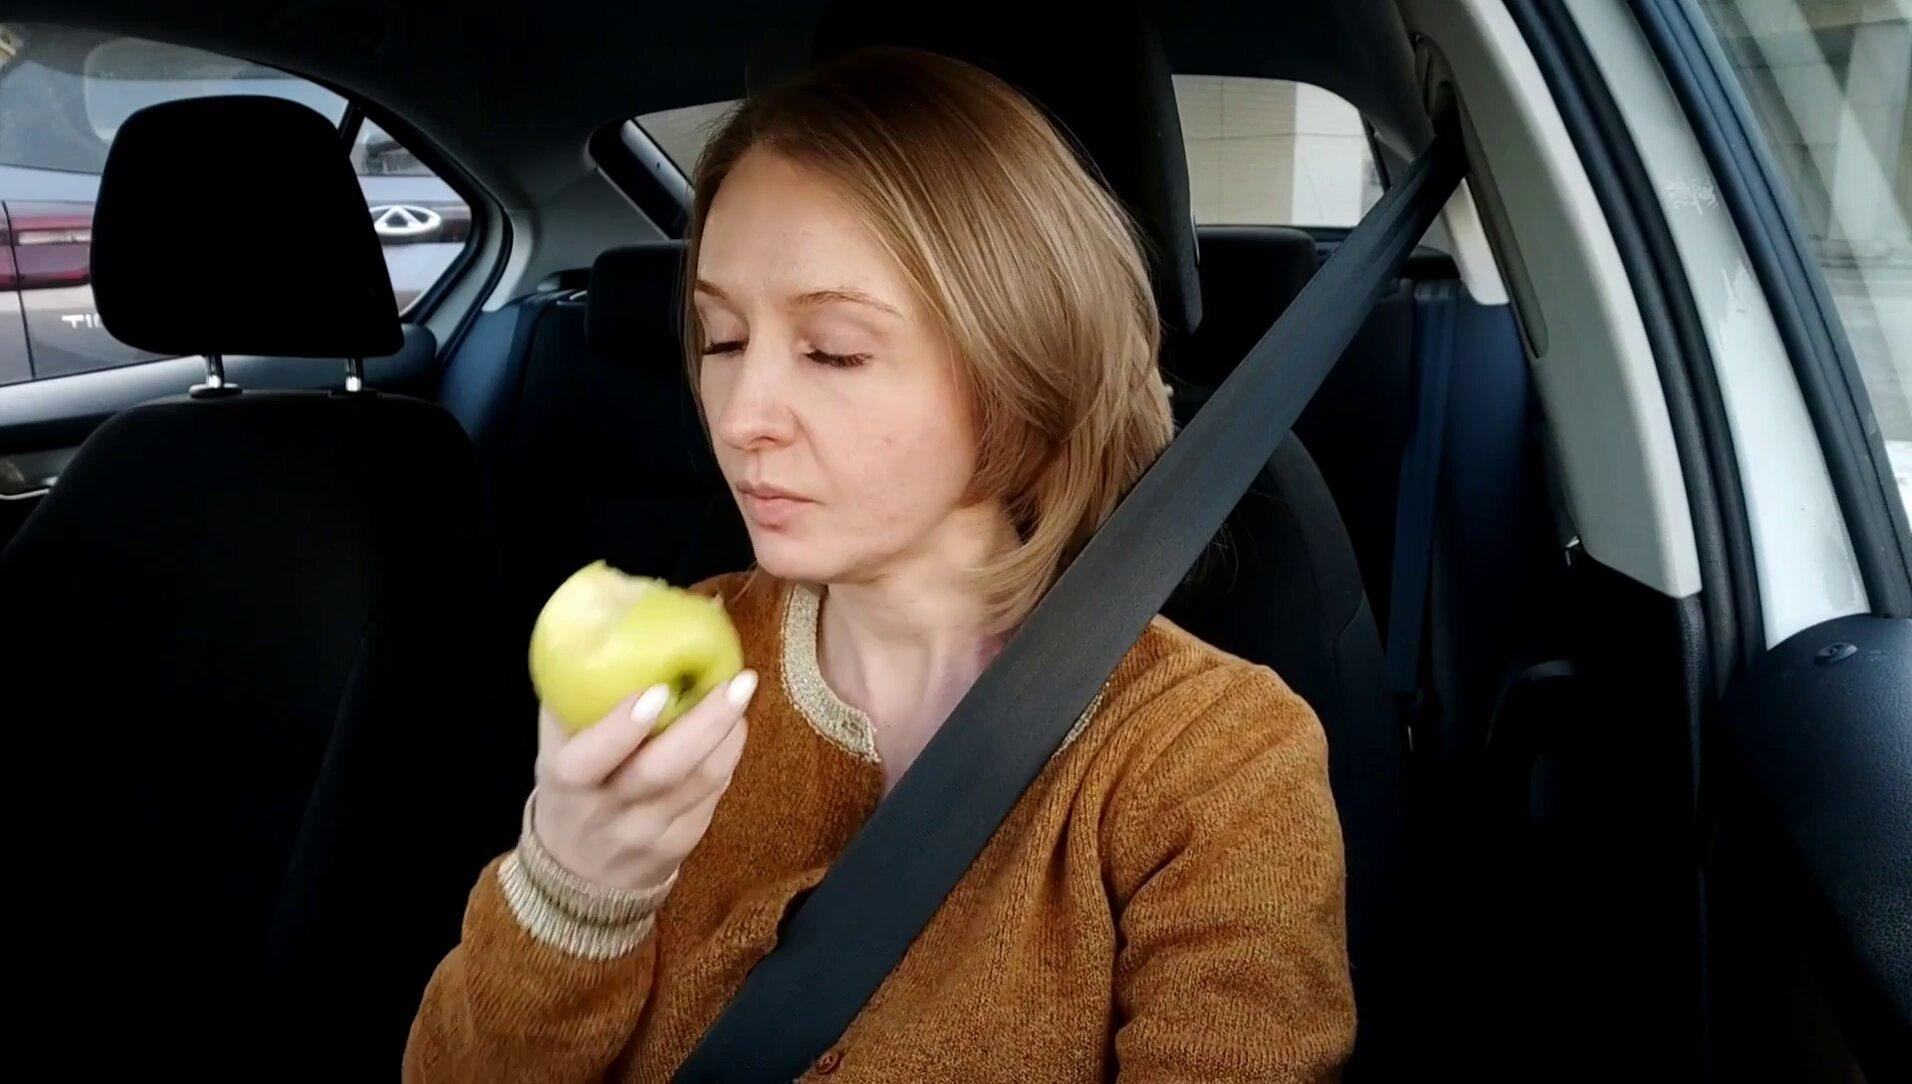Eating: (523, 552, 754, 744)
